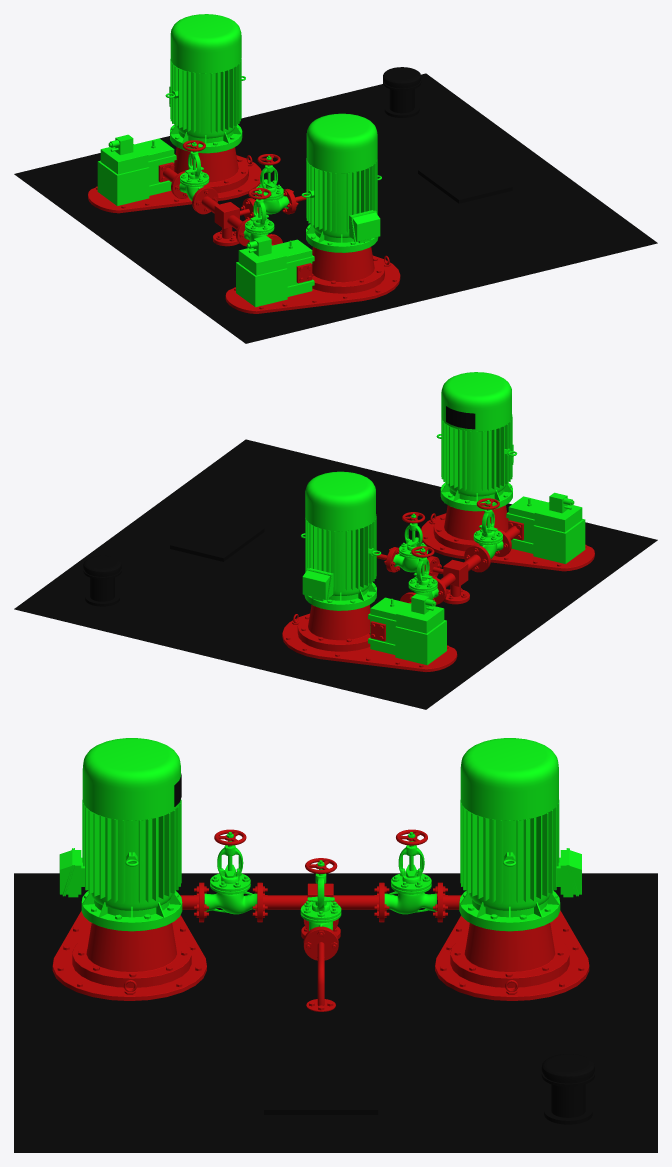
The model's file is Hcsd_XFDJ_Hyj.FBX.
3 views of the same model, one above another, from view 1: azimuth 30°, elevation 25°; view 2: azimuth 150°, elevation 25°; view 3: azimuth 270°, elevation 25° (orthographic). The views are drawn at different scales.
Parts seen in each view (by area): view 1: Hcsd_XFDJ_2_Hyj, Hcsd_XFDJ_1_Hyj, Hcsd_XFDJ_0_Hyj; view 2: Hcsd_XFDJ_2_Hyj, Hcsd_XFDJ_1_Hyj, Hcsd_XFDJ_0_Hyj; view 3: Hcsd_XFDJ_2_Hyj, Hcsd_XFDJ_1_Hyj, Hcsd_XFDJ_0_Hyj.
Boxes of the visible parts, left/top/right/bottom form: Hcsd_XFDJ_2_Hyj: left=14, top=67, right=657, bottom=343; Hcsd_XFDJ_1_Hyj: left=97, top=14, right=381, bottom=307; Hcsd_XFDJ_0_Hyj: left=88, top=140, right=400, bottom=313; Hcsd_XFDJ_2_Hyj: left=14, top=406, right=657, bottom=709; Hcsd_XFDJ_1_Hyj: left=301, top=372, right=585, bottom=665; Hcsd_XFDJ_0_Hyj: left=282, top=498, right=594, bottom=671; Hcsd_XFDJ_2_Hyj: left=14, top=773, right=657, bottom=1152; Hcsd_XFDJ_1_Hyj: left=59, top=738, right=581, bottom=931; Hcsd_XFDJ_0_Hyj: left=52, top=829, right=589, bottom=1011.
Size of the model in its own units: 90.91 by 32.26 by 88.58.
